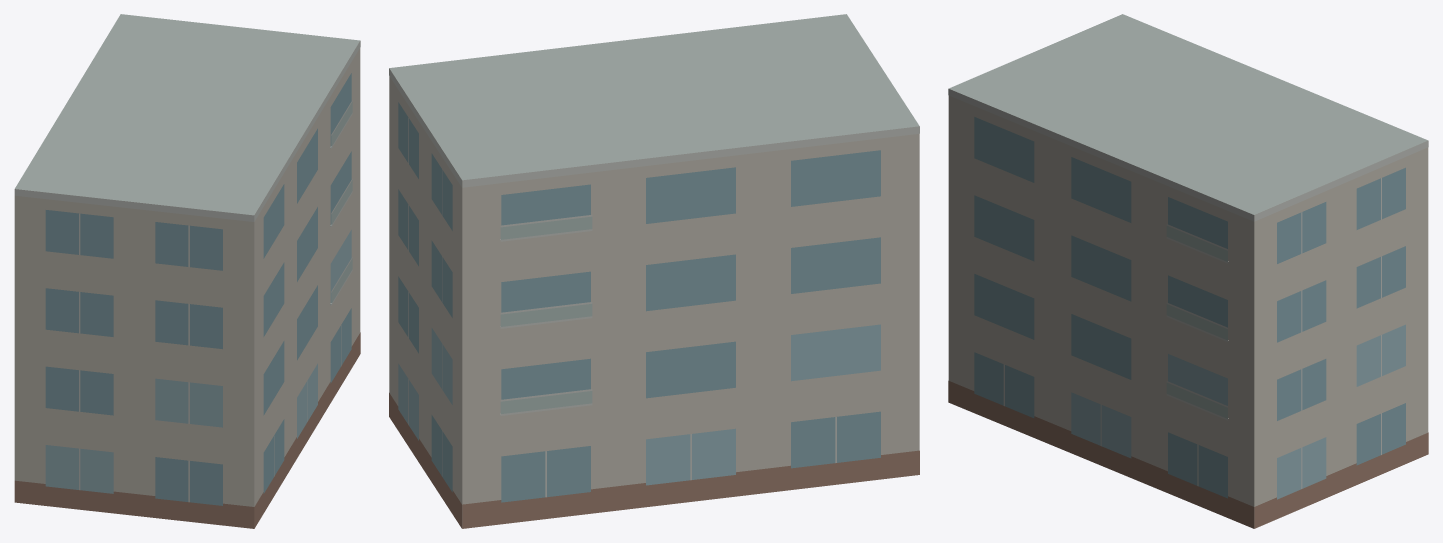
Rendered from survey-upis-33021833.glb.
3 views of the same model, side by side, from view 1: azimuth 30°, elevation 25°; view 2: azimuth 150°, elevation 25°; view 3: azimuth 270°, elevation 25° (orthographic). The views are drawn at different scales.
Parts seen in each view (by area): view 1: survey-upis-33021833.tmp; view 2: survey-upis-33021833.tmp; view 3: survey-upis-33021833.tmp.
Boxes of the visible parts, x1,y1,x2,y2 form: survey-upis-33021833.tmp: (14,14,360,528); survey-upis-33021833.tmp: (389,14,919,528); survey-upis-33021833.tmp: (948,14,1428,528).
Size of the model in its own units: 15.67 by 11.4 by 15.81.
